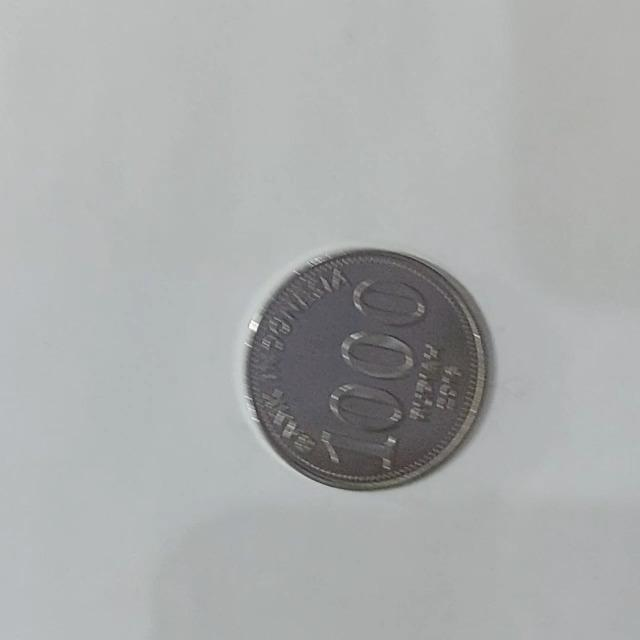Rp100: (241, 245, 491, 492)
